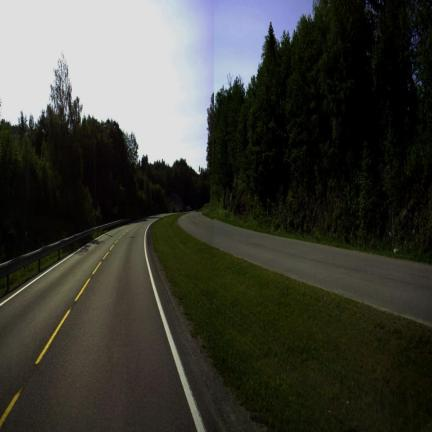Road: (0, 218, 225, 431), (179, 212, 431, 325)
